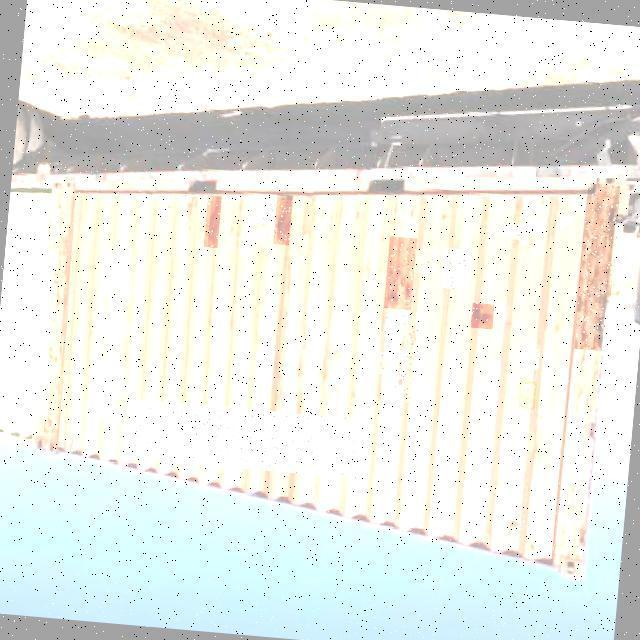rust: (135, 401, 364, 479), (575, 184, 623, 352), (394, 312, 422, 403), (385, 237, 418, 311), (442, 249, 473, 291), (274, 195, 294, 246), (204, 196, 222, 249), (182, 194, 203, 236), (414, 249, 440, 274), (471, 303, 495, 330), (255, 195, 275, 224), (377, 352, 391, 375), (385, 315, 399, 338)
